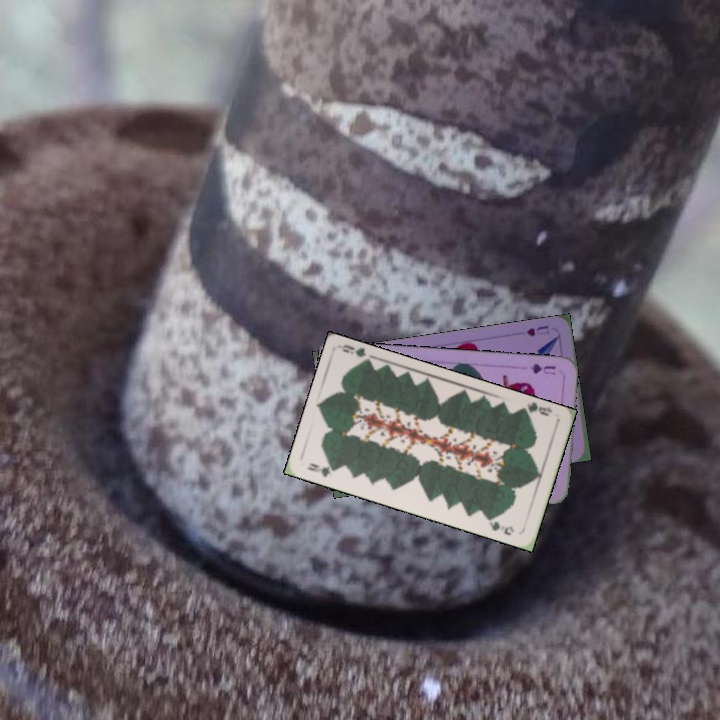G9: (517, 398, 555, 419), (303, 459, 340, 480)
GU: (526, 359, 558, 377)
HU: (522, 321, 552, 339)
